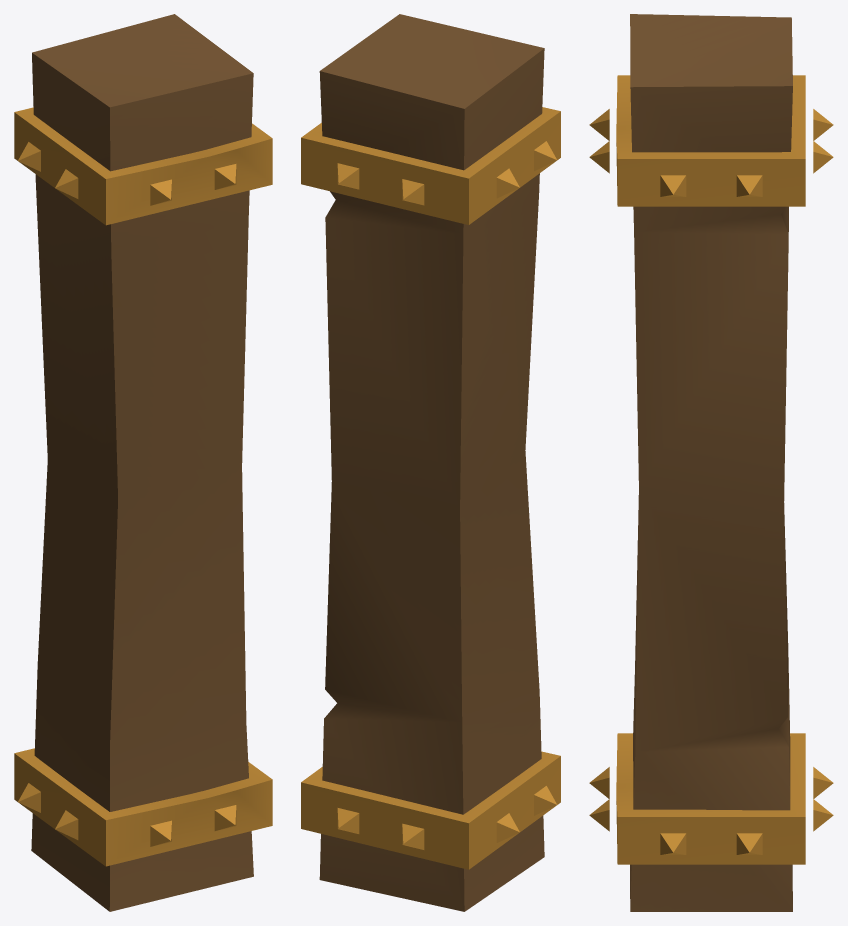
The model's file is obj_woodenBeam_B_LOW.FBX.
The picture shows the model from 3 angles, left to right: view 1: azimuth 30°, elevation 25°; view 2: azimuth 150°, elevation 25°; view 3: azimuth 270°, elevation 25°; orthographic projection. The views are drawn at different scales.
Visible parts, largest first — view 1: obj_woodenBeam_B_LOW; view 2: obj_woodenBeam_B_LOW; view 3: obj_woodenBeam_B_LOW.
Part boxes in pixels (box(x1,y1,x2,y2)): obj_woodenBeam_B_LOW: box(14, 14, 272, 911); obj_woodenBeam_B_LOW: box(301, 14, 560, 911); obj_woodenBeam_B_LOW: box(589, 14, 833, 911).
Bounding box in the file's own units: 1.66 × 5.94 × 1.6.
